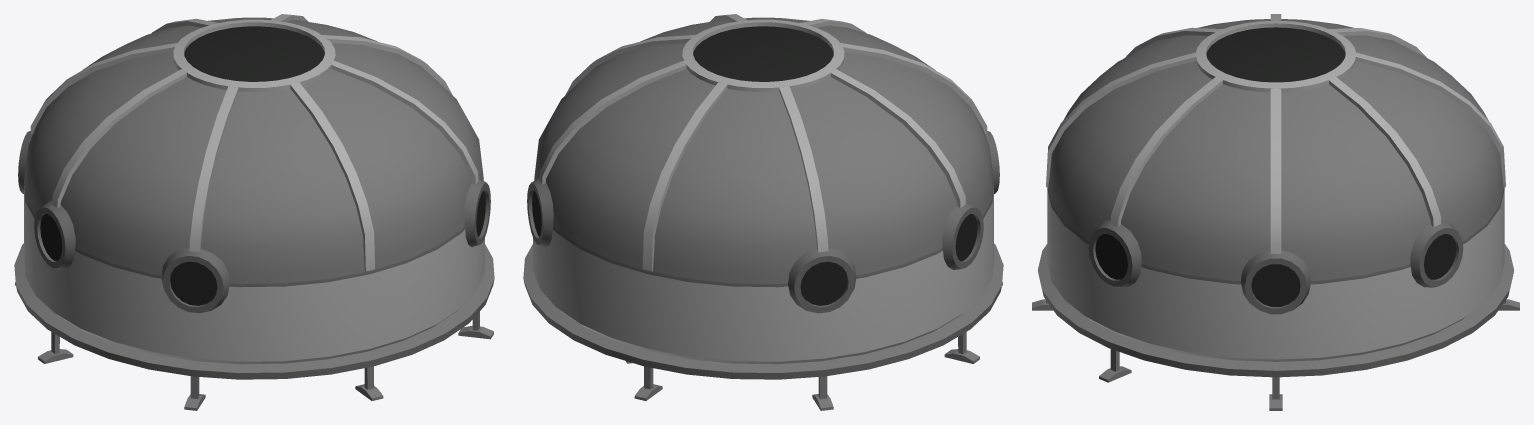
The model's file is Base_Small-transformed.glb.
3 renders of one model, left to right at view 1: azimuth 30°, elevation 25°; view 2: azimuth 150°, elevation 25°; view 3: azimuth 270°, elevation 25°, orthographic.
Parts seen in each view (by area): view 1: Base_Large; view 2: Base_Large; view 3: Base_Large.
Boxes of the visible parts, <box> form: Base_Large: <box>14,14,494,410</box>; Base_Large: <box>523,14,1003,410</box>; Base_Large: <box>1032,14,1519,410</box>.
Bounding box in the file's own units: 8.53 × 4.97 × 8.53.
Materials: 1 (1 with a texture image).
